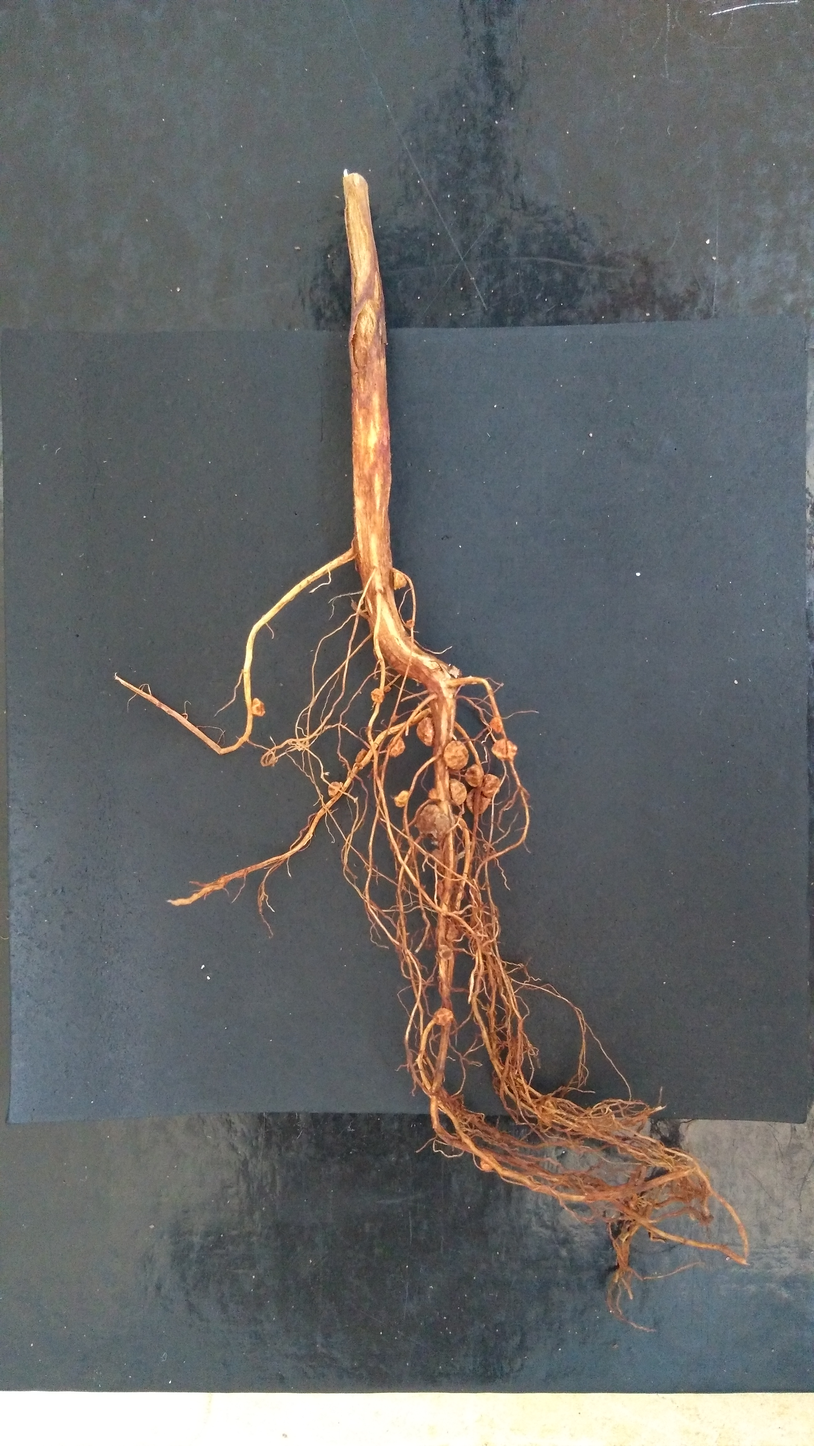nodule: (414, 802, 452, 844), (442, 739, 470, 771), (488, 736, 520, 763), (465, 786, 492, 815), (415, 716, 436, 747), (447, 778, 468, 806), (385, 735, 407, 759), (431, 1006, 454, 1027), (464, 763, 483, 788), (482, 773, 501, 798), (391, 569, 409, 591), (250, 696, 267, 718), (480, 1149, 496, 1171), (392, 789, 409, 809), (437, 943, 454, 963), (445, 919, 460, 941), (326, 780, 343, 798), (489, 714, 503, 734), (370, 687, 385, 704), (354, 747, 368, 764), (431, 848, 446, 863), (427, 787, 440, 801), (405, 618, 416, 629), (436, 882, 444, 897), (382, 685, 392, 693)
